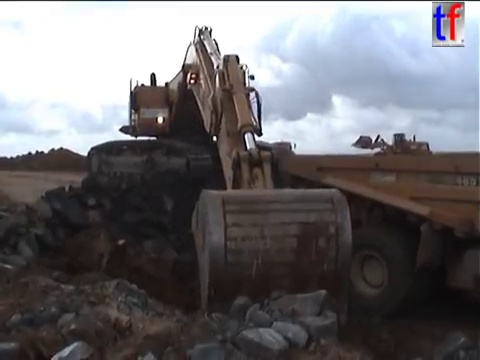excavator: (82, 22, 356, 346)
truck: (256, 148, 480, 320)
wheel loader: (349, 130, 437, 165)
